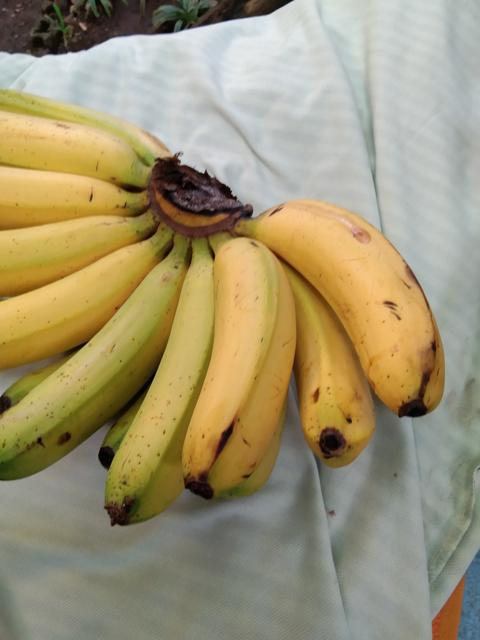freshripe: (0, 235, 155, 371), (0, 206, 126, 297)
ripe: (262, 194, 453, 417), (167, 233, 284, 513), (266, 282, 389, 471)
